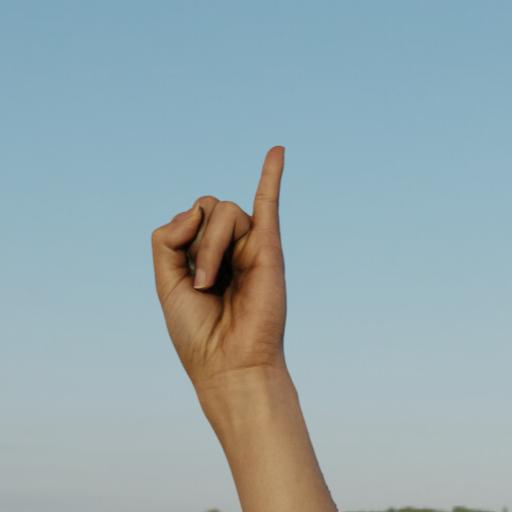I: (134, 138, 314, 400)
